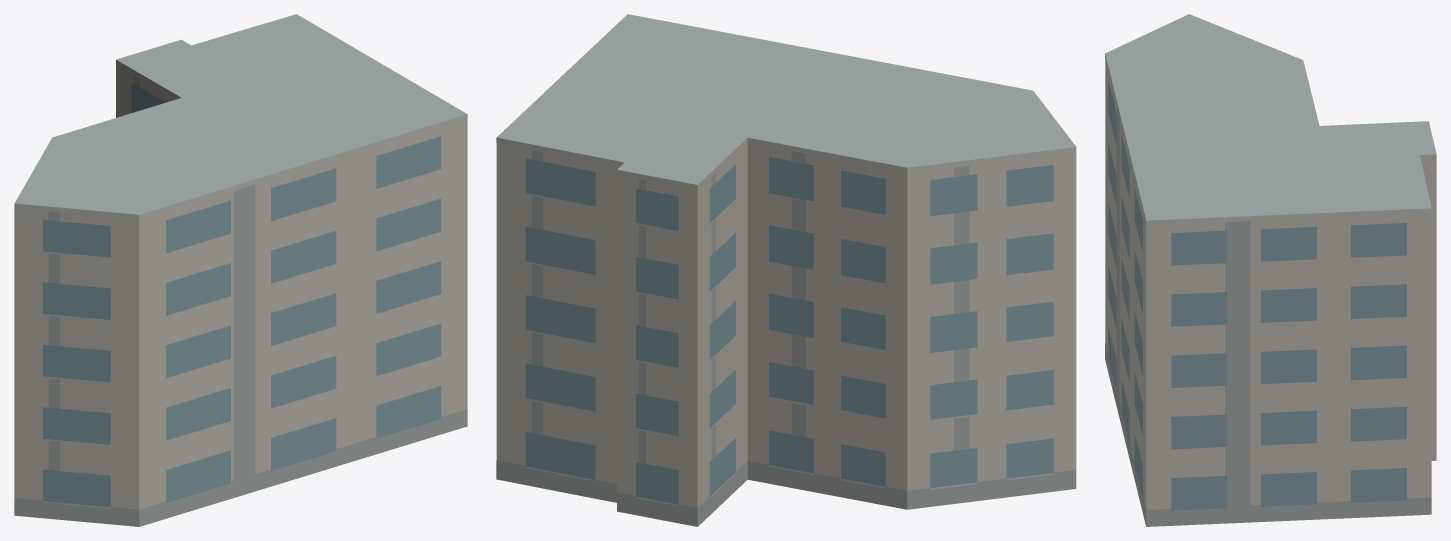
Rendered from survey-upis-32579304.glb.
The picture shows the model from 3 angles, left to right: view 1: azimuth 30°, elevation 25°; view 2: azimuth 150°, elevation 25°; view 3: azimuth 270°, elevation 25°; orthographic projection. The views are drawn at different scales.
Parts seen in each view (by area): view 1: survey-upis-32579304.tmp; view 2: survey-upis-32579304.tmp; view 3: survey-upis-32579304.tmp.
Boxes of the visible parts, bbox=[...] form: survey-upis-32579304.tmp: bbox=[14, 14, 467, 526]; survey-upis-32579304.tmp: bbox=[496, 14, 1076, 526]; survey-upis-32579304.tmp: bbox=[1105, 14, 1436, 526].
Size of the model in its own units: 22.07 by 15.25 by 14.97.
